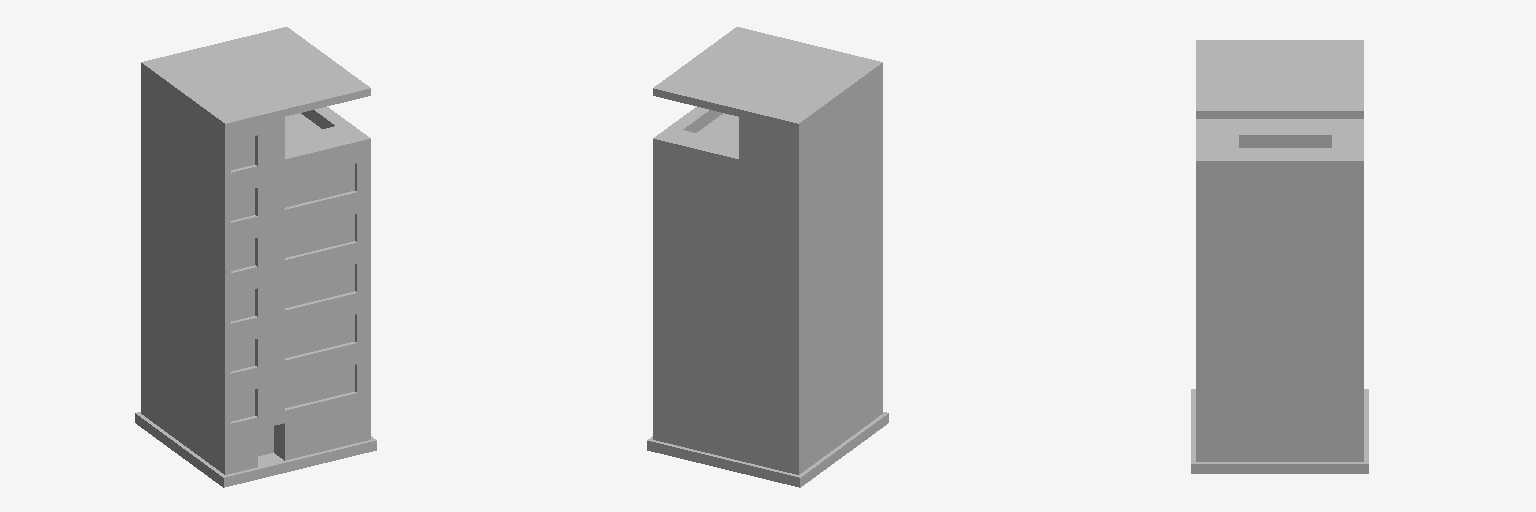
The model's file is building2 8x8x0.5.obj.
The picture shows the model from 3 angles: view 1: azimuth 30°, elevation 25°; view 2: azimuth 150°, elevation 25°; view 3: azimuth 270°, elevation 25°; orthographic projection.
Visible parts, largest first — view 1: Cube; view 2: Cube; view 3: Cube.
Boxes of the visible parts, x1,y1,x2,y2 form: Cube: [135, 27, 376, 487]; Cube: [647, 27, 888, 487]; Cube: [1191, 40, 1368, 473].
Bounding box in the file's own units: 16 × 36 × 16.